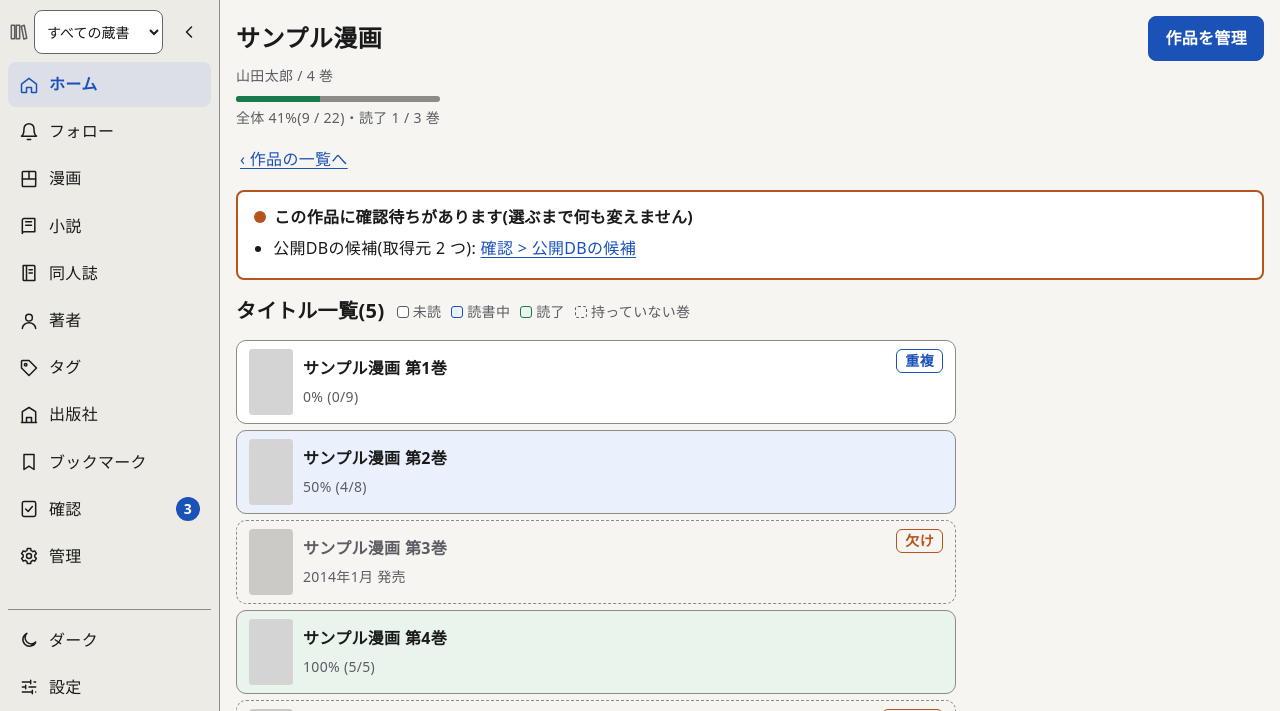
Test: 作品のタイトル一覧(#105 / #115) › 重複は 1 行にまとめ、押すと重複の一覧から読む巻を選べる
Expected: the heading "タイトル一覧(5)" is shown, [236, 296, 385, 326]
Expected: the text with class "dup-badge" reads "重複", [905, 351, 934, 370]
Click the button with class "title-item" showing "サンプル漫画 第1巻 0% (0/9) 重複".
click(271, 382)  # box [236, 340, 956, 424]
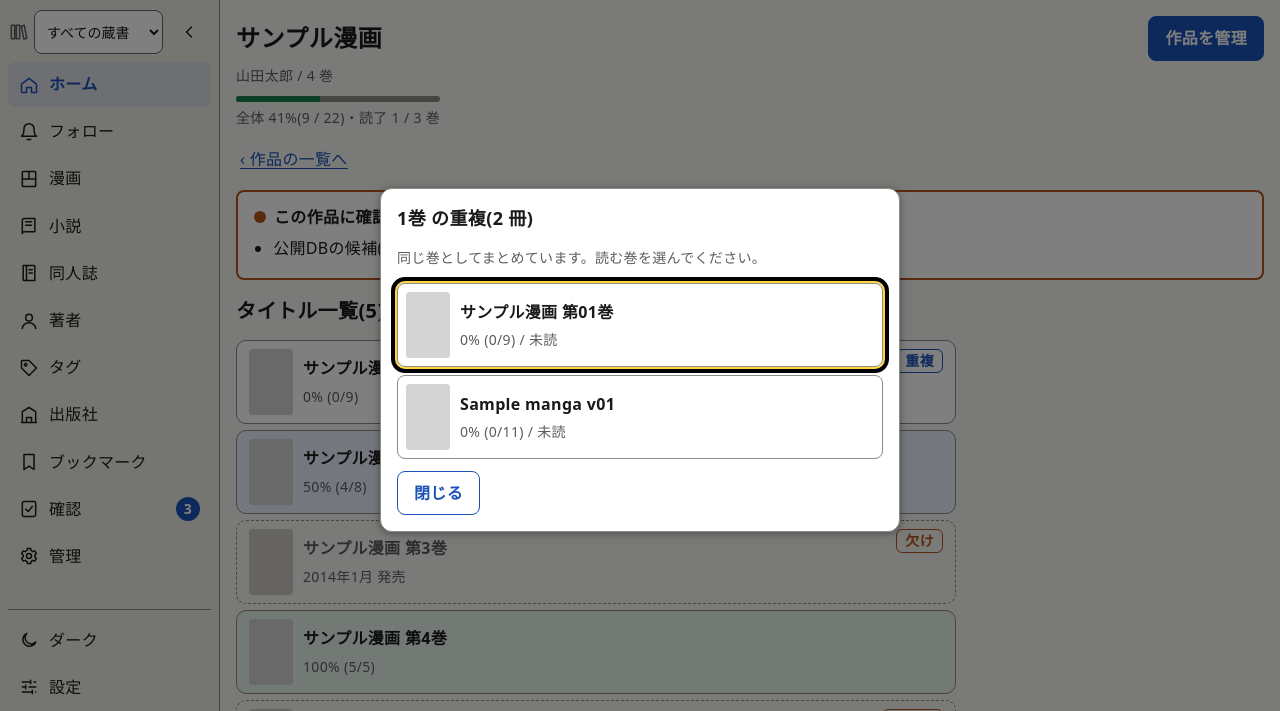
Expected: the link "サンプル漫画 第01巻 0% (0/9) / 未読" is shown, [397, 283, 883, 367]
Expected: the link "Sample manga v01 0% (0/11) / 未読" is shown, [397, 375, 883, 459]
Click the button "閉じる".
click(438, 493)  # box [397, 471, 480, 515]
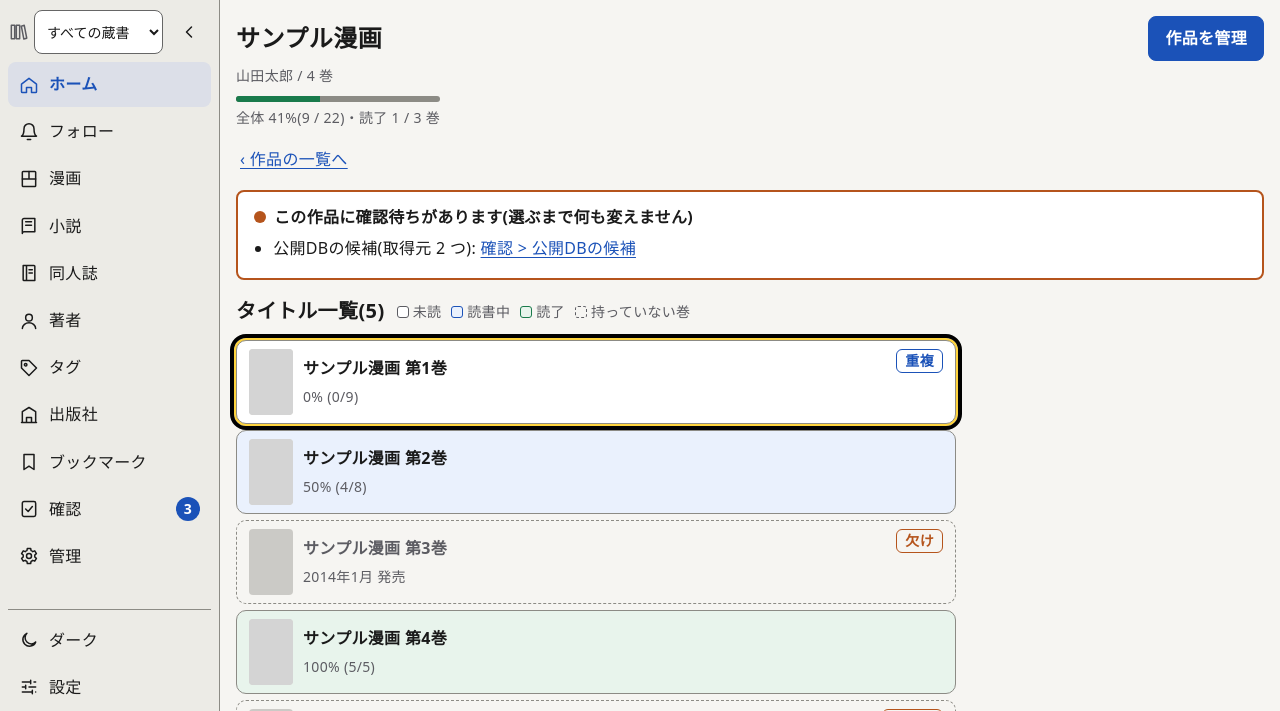
Expected: the dialog is gone
